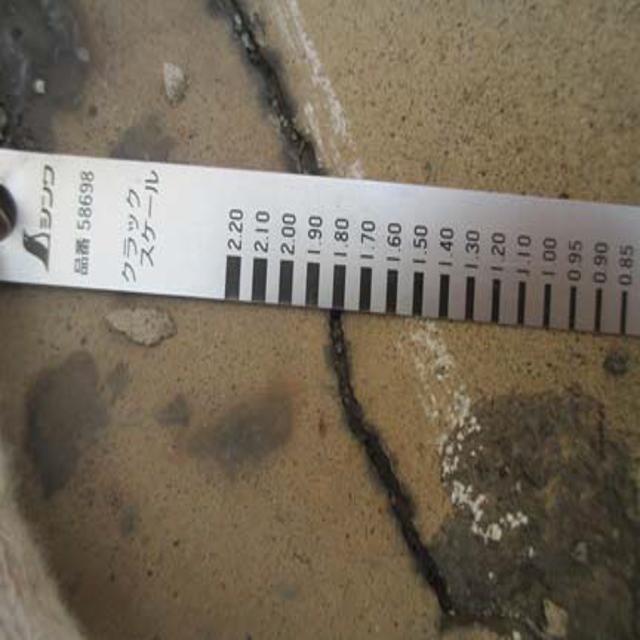crack: (225, 20, 474, 636)
